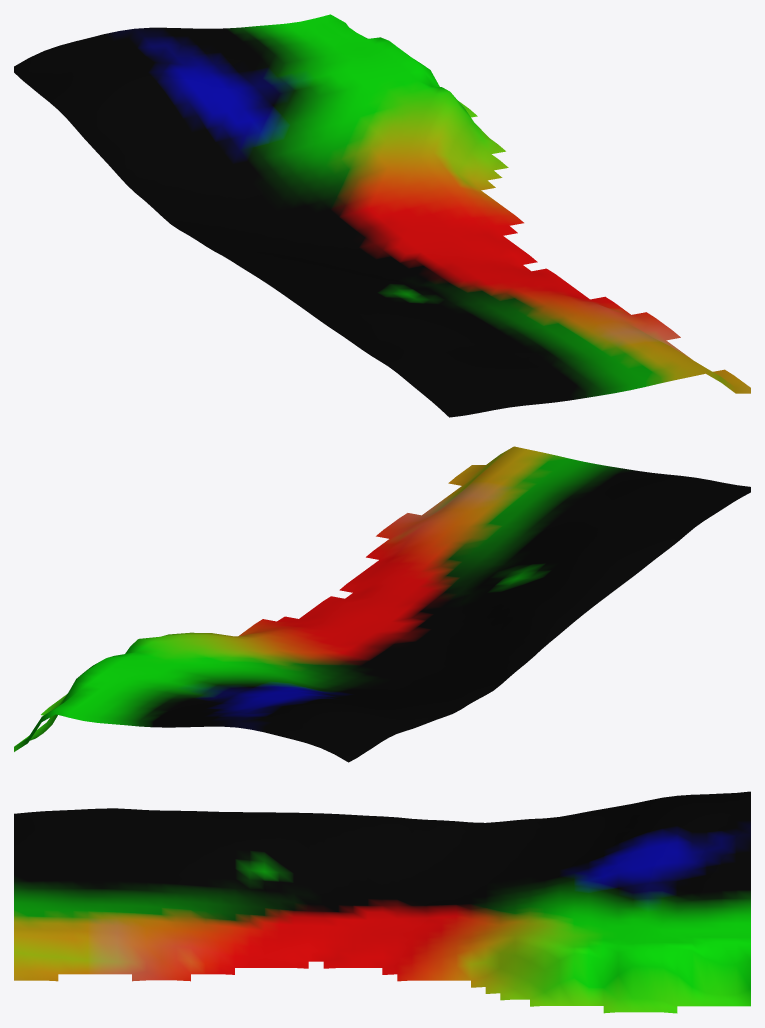
The model's file is coast_14_13.glb.
3 views of the same model, one above another, from view 1: azimuth 30°, elevation 25°; view 2: azimuth 150°, elevation 25°; view 3: azimuth 270°, elevation 25° (orthographic). The views are drawn at different scales.
Visible parts, largest first — view 1: terrain; view 2: terrain; view 3: terrain.
Boxes of the visible parts, <box> form: terrain: <box>14,14,750,417</box>; terrain: <box>14,446,750,762</box>; terrain: <box>14,791,750,1013</box>.
Bounding box in the file's own units: 100 × 23.71 × 200.
